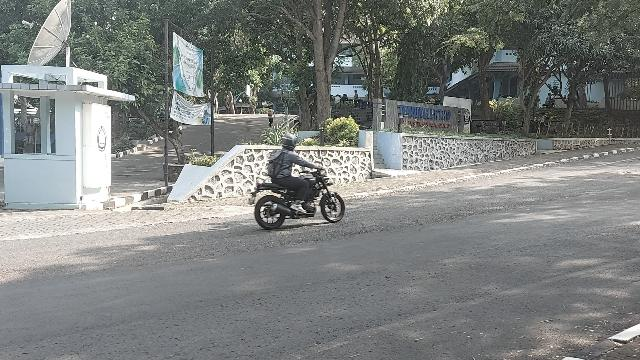helm: (283, 135, 297, 151)
motor: (250, 158, 346, 230)
